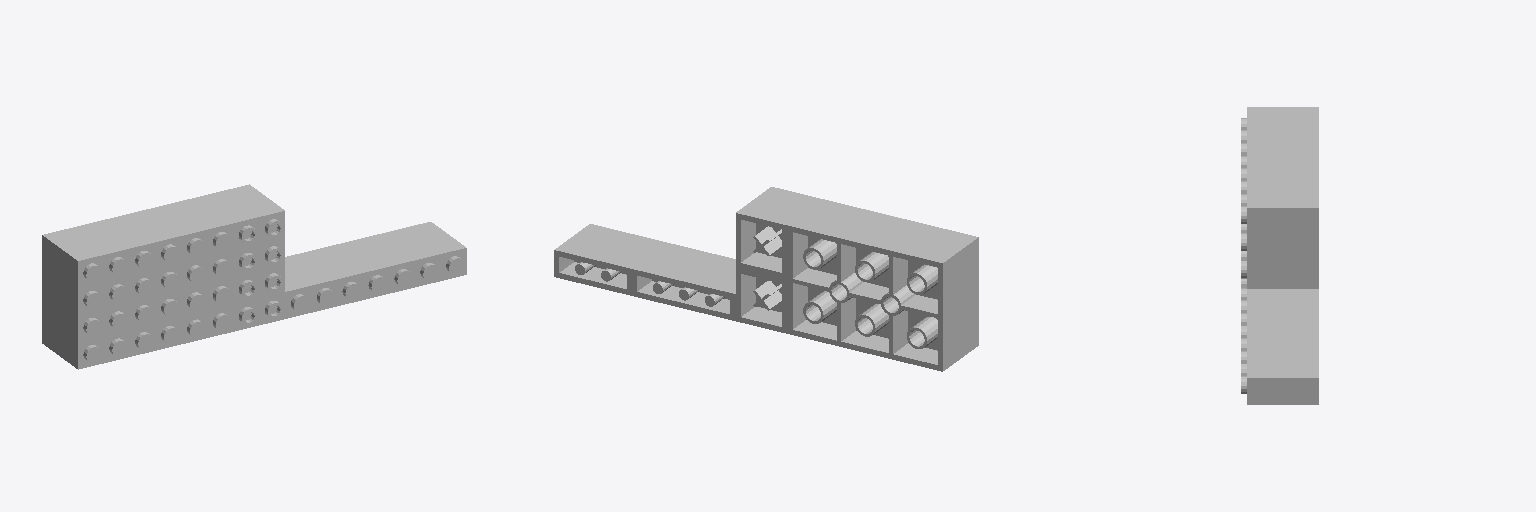
File: track.obj
The picture shows the model from 3 angles: view 1: azimuth 30°, elevation 25°; view 2: azimuth 150°, elevation 25°; view 3: azimuth 270°, elevation 25°; orthographic projection.
Visible parts, largest first — view 1: Piece001, Piece000, Piece007, Piece004, Piece009, Piece005, Piece008, Piece006, Piece002; view 2: Piece000, Piece001, Piece006, Piece002, Piece008, Piece003, Piece009, Piece007, Piece004; view 3: Piece001, Piece004, Piece002, Piece000, Piece009, Piece008, Piece007, Piece006, Piece005, Piece003.
Boxes of the visible parts, x1=… form: Piece001: x1=60, y1=210, x2=233, y2=369; Piece000: x1=42, y1=197, x2=214, y2=355; Piece007: x1=285, y1=254, x2=388, y2=318; Piece004: x1=216, y1=198, x2=284, y2=276; Piece009: x1=371, y1=235, x2=466, y2=293; Piece005: x1=234, y1=265, x2=284, y2=331; Piece008: x1=353, y1=222, x2=448, y2=252; Piece006: x1=285, y1=241, x2=370, y2=273; Piece002: x1=198, y1=184, x2=266, y2=209; Piece000: x1=787, y1=212, x2=960, y2=371; Piece001: x1=806, y1=199, x2=978, y2=357; Piece006: x1=632, y1=256, x2=735, y2=320; Piece002: x1=736, y1=200, x2=804, y2=278; Piece008: x1=554, y1=237, x2=648, y2=295; Piece003: x1=736, y1=267, x2=786, y2=333; Piece009: x1=573, y1=224, x2=666, y2=255; Piece007: x1=650, y1=243, x2=735, y2=276; Piece004: x1=754, y1=187, x2=822, y2=211; Piece001: x1=1241, y1=107, x2=1282, y2=193; Piece004: x1=1241, y1=183, x2=1282, y2=261; Piece002: x1=1283, y1=183, x2=1318, y2=261; Piece000: x1=1283, y1=107, x2=1318, y2=182; Piece009: x1=1241, y1=340, x2=1282, y2=404; Piece008: x1=1283, y1=340, x2=1318, y2=404; Piece007: x1=1241, y1=289, x2=1282, y2=350; Piece006: x1=1283, y1=289, x2=1318, y2=339; Piece005: x1=1241, y1=251, x2=1282, y2=299; Piece003: x1=1283, y1=262, x2=1318, y2=288.
Bounding box in the file's own units: 300 × 80 × 52.